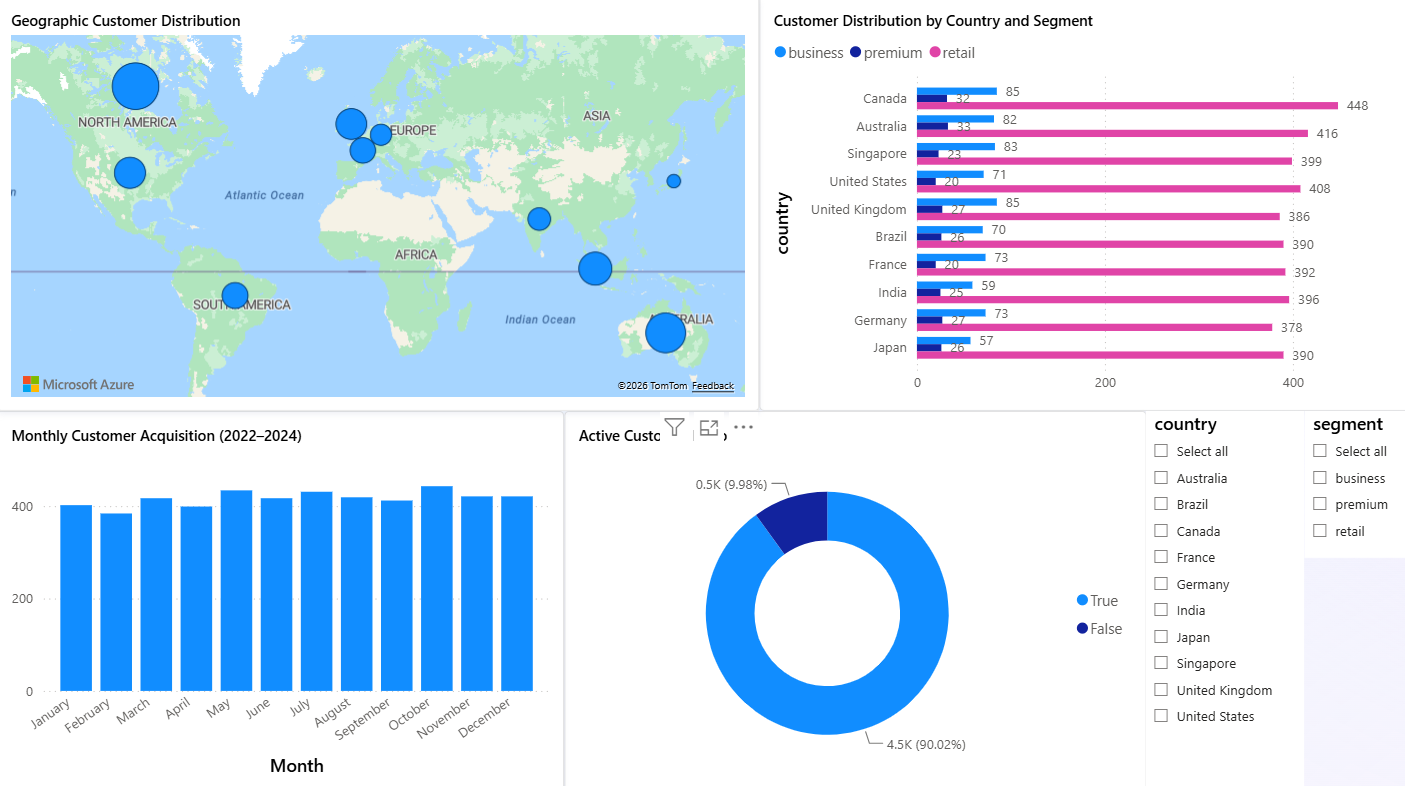

What the dashboard file says about the page in this screenshot:
{"tool":"powerbi","page":{"name":"Customer Segments","canvas":[1280,720],"ordinal":3},"visuals":[{"type":"clusteredBarChart","title":" Customer Distribution by Country and Segment","fields":{"Category":["customers.country"],"Y":["CountNonNull(customers.customer_id)"],"Series":["customers.segment"]},"box":[689.5,0,590.7,375.6],"z":0},{"type":"donutChart","title":"Active Customer Ratio","fields":{"Category":["customers.is_active"],"Y":["CountNonNull(customers.customer_id)"]},"box":[512.8,375.6,526.7,344.2],"z":1000},{"type":"columnChart","title":"Monthly Customer Acquisition (2022–2024)","fields":{"Y":["CountNonNull(customers.customer_id)"],"Category":["customers.join_date.Variation.Date Hierarchy.Month"]},"box":[0,375.6,512.8,344.2],"z":2000},{"type":"azureMap","title":"Geographic Customer Distribution","fields":{"Category":["customers.country"],"Size":["CountNonNull(customers.customer_id)"]},"box":[0,0,689.5,375.6],"z":3000},{"type":"slicer","fields":{"Values":["customers.segment"]},"box":[1182.6,375.6,97.7,132.6],"z":4000},{"type":"slicer","fields":{"Values":["customers.country"]},"box":[1039.5,375.6,143,344.2],"z":5000}]}

Visuals, with their boxes in screenshot pixels (x1, y1, x2, y2), scaled from the page's 1280x720 canvas onto the 1405x786 screenshot:
" Customer Distribution by Country and Segment" clusteredBarChart: bbox=(757, 0, 1404, 410)
"Active Customer Ratio" donutChart: bbox=(563, 410, 1141, 785)
"Monthly Customer Acquisition (2022–2024)" columnChart: bbox=(0, 410, 563, 785)
"Geographic Customer Distribution" azureMap: bbox=(0, 0, 757, 410)
slicer - customers.segment: bbox=(1298, 410, 1404, 555)
slicer - customers.country: bbox=(1141, 410, 1298, 785)
